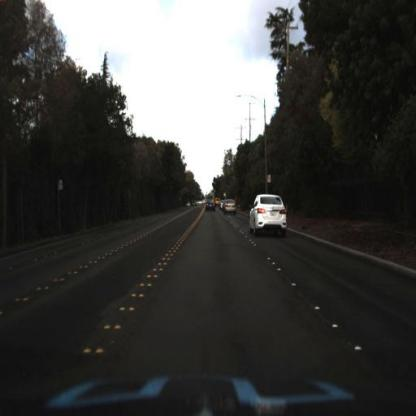car: (249, 193, 291, 244), (224, 197, 238, 220), (205, 197, 218, 213)
